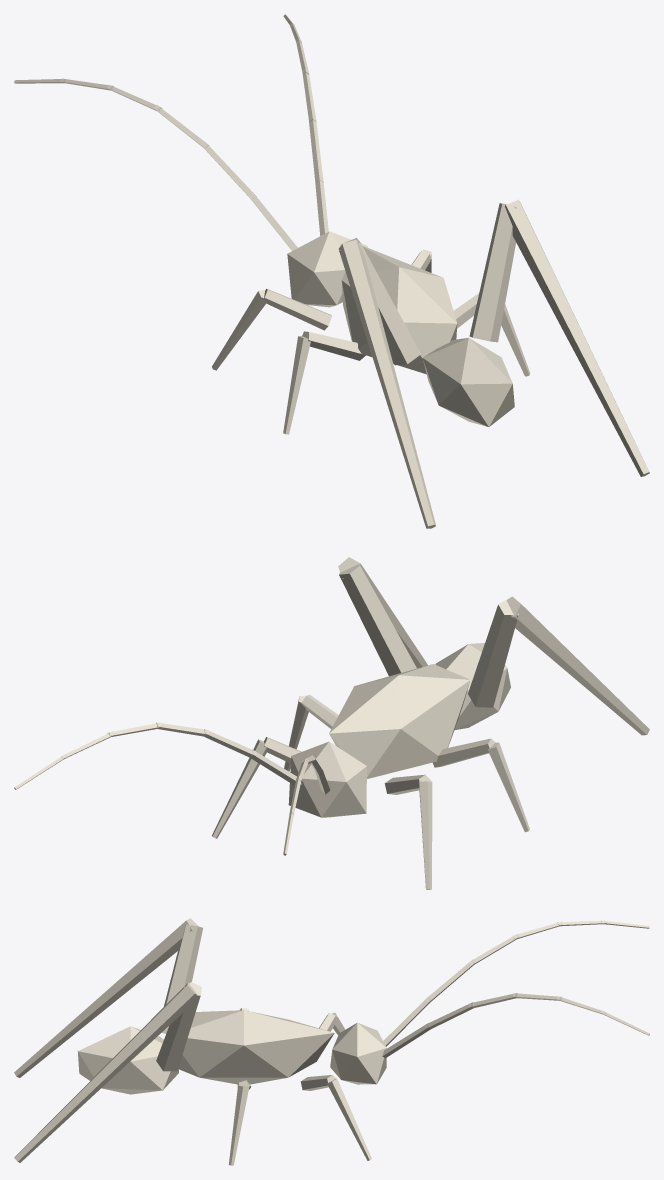
Rendered from cave_cricket.glb.
The picture shows the model from 3 angles, top to bottom: view 1: azimuth 30°, elevation 25°; view 2: azimuth 150°, elevation 25°; view 3: azimuth 270°, elevation 25°; orthographic projection. The views are drawn at different scales.
Parts seen in each view (by area): view 1: model; view 2: model; view 3: model.
Part boxes in pixels (x1,y1,x2,y2): model: (14,14,649,528); model: (14,557,649,889); model: (14,918,649,1165).
Size of the model in its own units: 0.1019 by 0.0739 by 0.2524.
